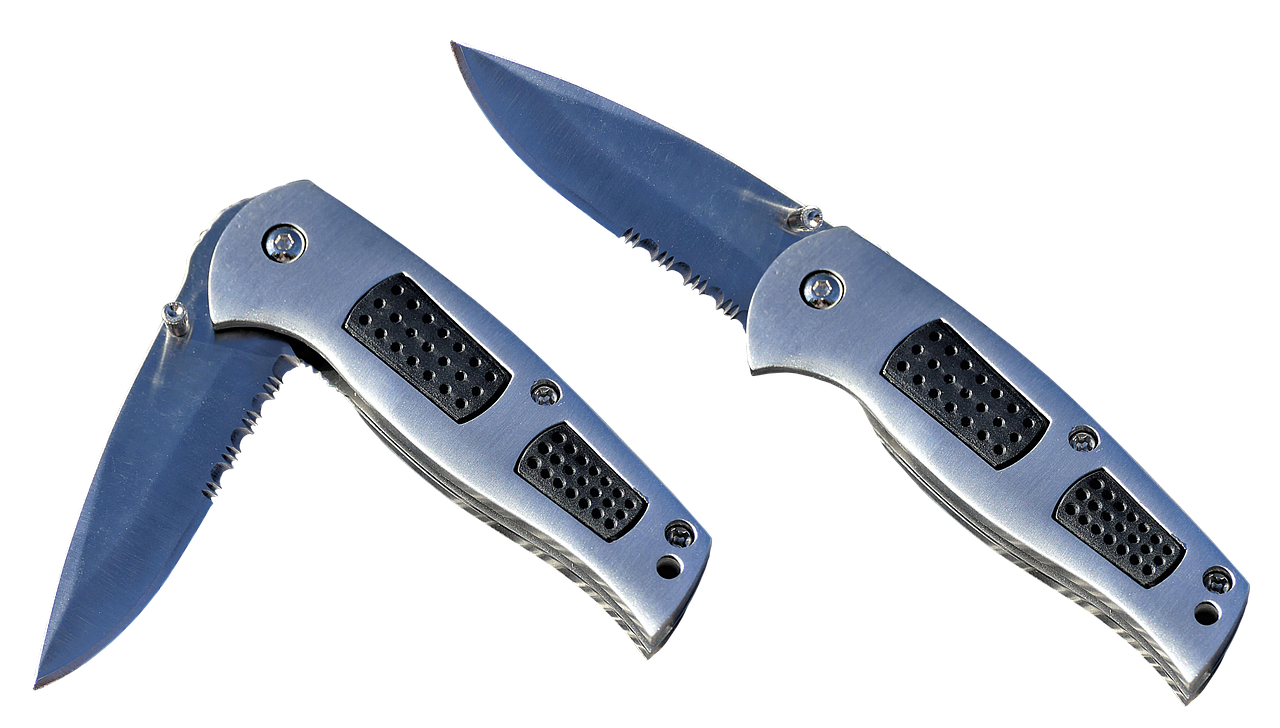knife: (441, 27, 1275, 715), (20, 173, 709, 705)
